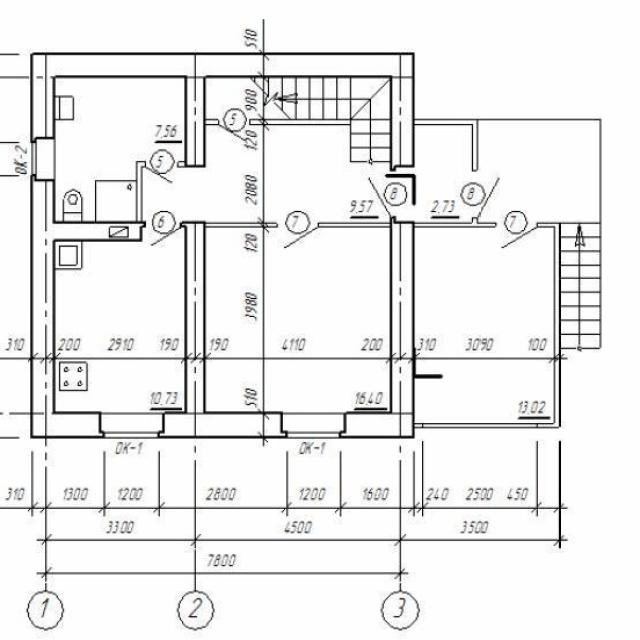Bathrooms: (55, 78, 185, 221)
Corridors: (143, 126, 389, 220), (480, 120, 600, 222), (396, 124, 472, 222)
Doors: (471, 171, 503, 219), (495, 221, 539, 253), (367, 172, 395, 218), (278, 222, 319, 253), (146, 220, 181, 248), (145, 161, 179, 188), (218, 119, 250, 146)
LBwalls: (31, 51, 416, 172), (30, 175, 104, 438), (339, 221, 415, 438), (181, 220, 206, 411), (162, 412, 284, 438), (56, 221, 146, 242)
Offices: (206, 229, 390, 411), (414, 228, 554, 423), (56, 228, 185, 411)
Stairs: (206, 78, 390, 166), (559, 223, 602, 353)
Walls: (536, 222, 561, 428), (415, 119, 478, 171), (414, 216, 497, 228), (135, 160, 147, 221), (250, 119, 350, 125), (207, 221, 278, 228), (319, 221, 391, 227), (415, 374, 444, 379), (205, 119, 220, 126), (414, 423, 424, 428), (176, 161, 184, 167)
Windows: (282, 412, 344, 438), (101, 412, 162, 438), (32, 138, 54, 179), (423, 423, 538, 428)
